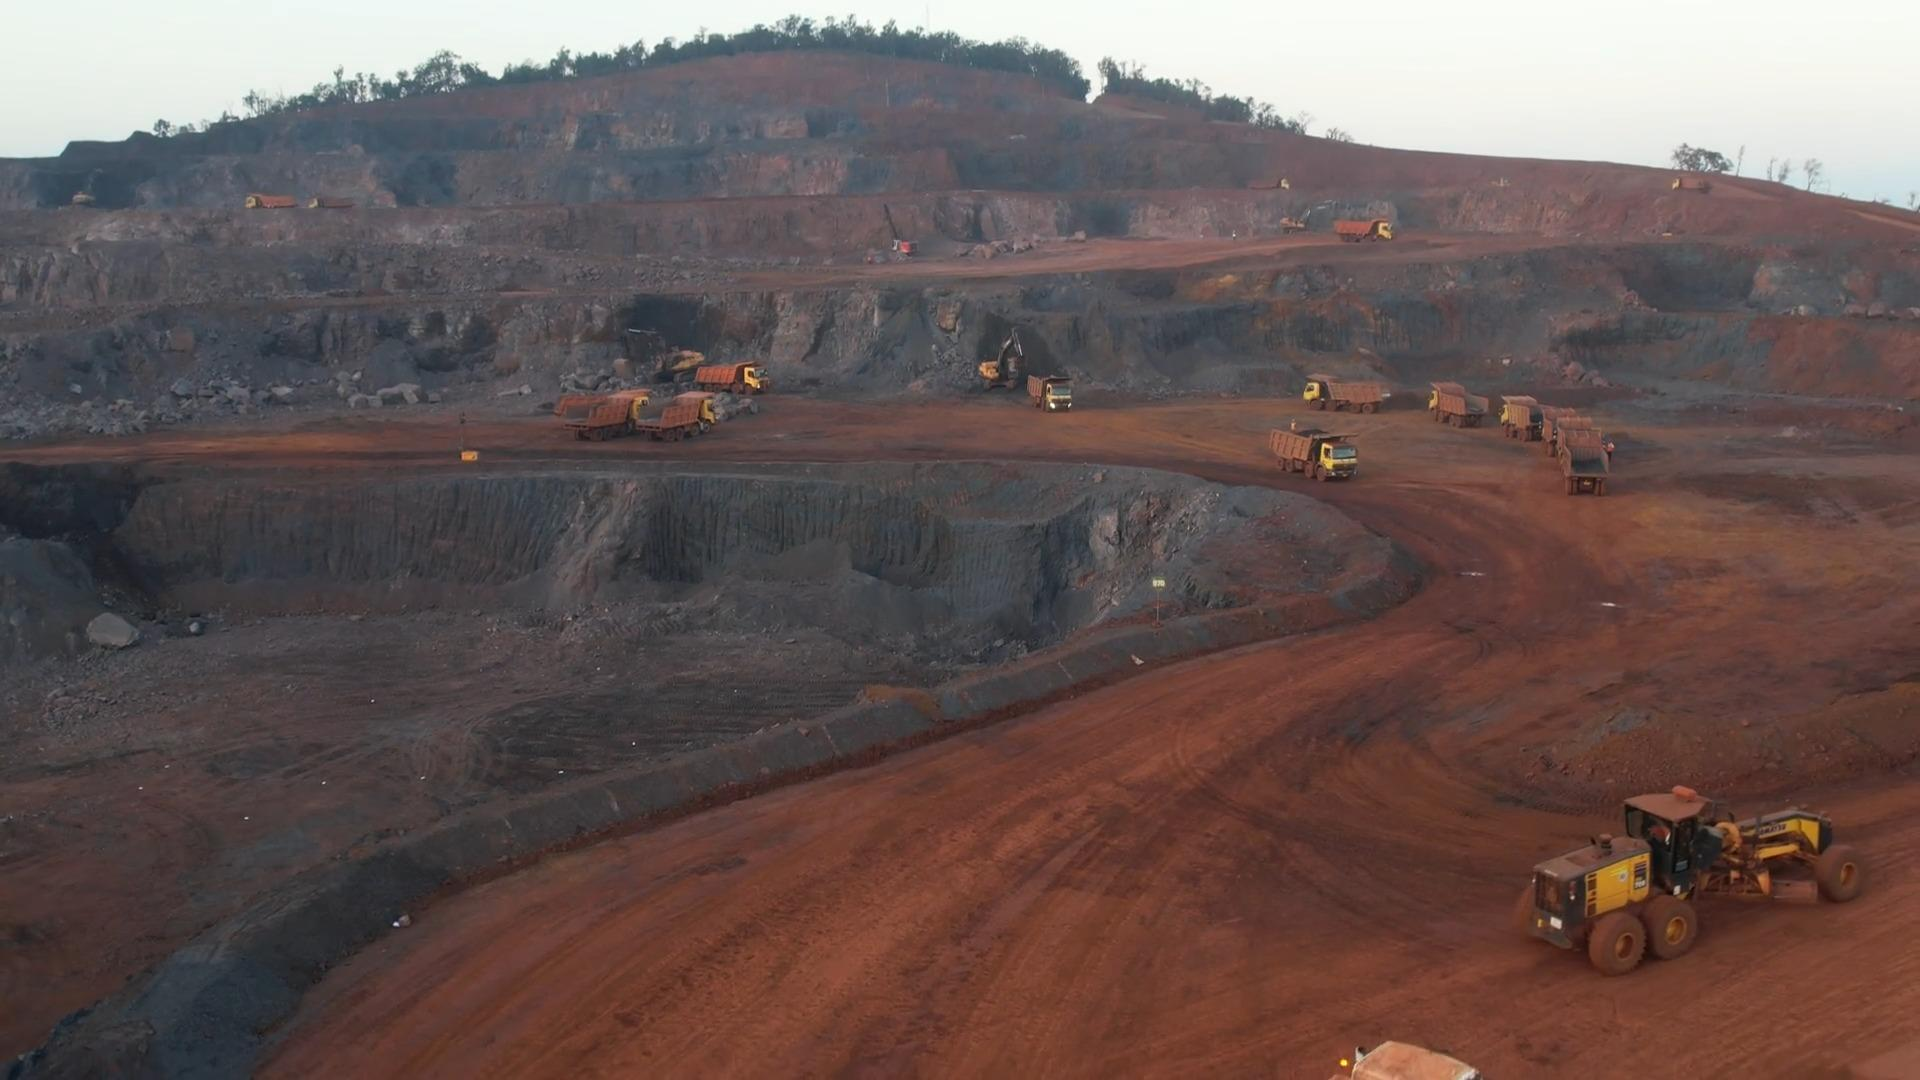excavator: (621, 328, 694, 382), (981, 327, 1026, 386)
